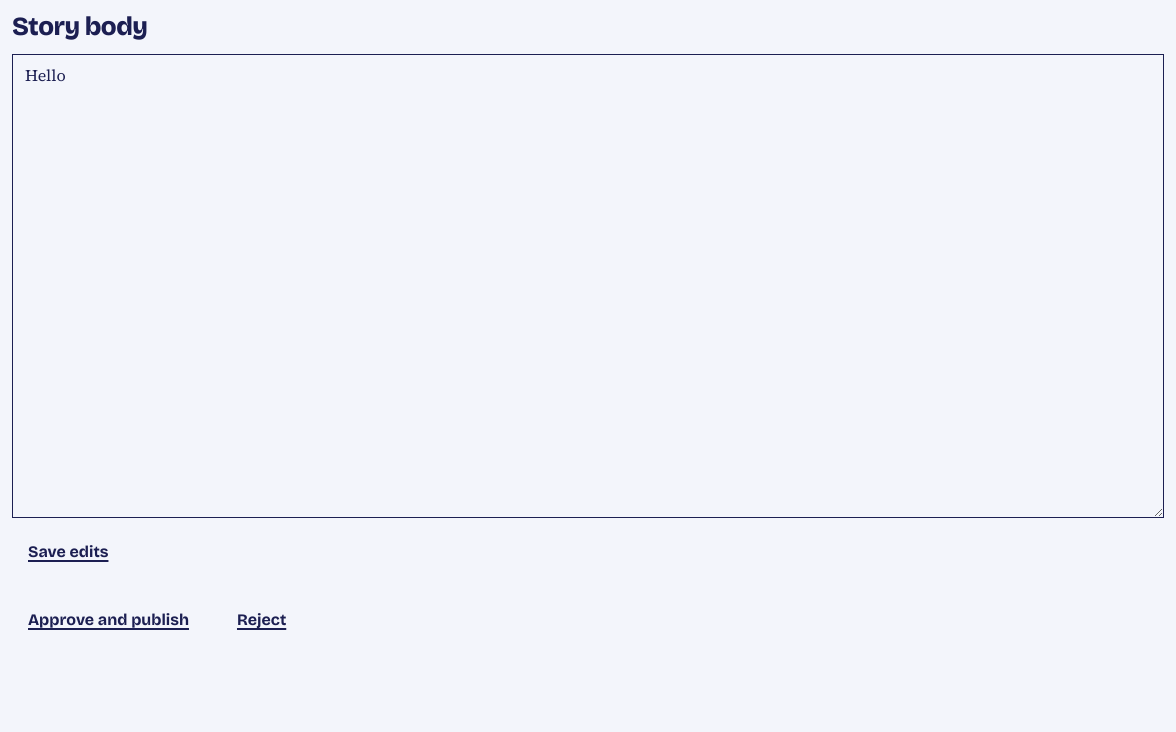
Test: ReviewActions › keeps typed text when a save fails
Replace the text in the text box labelled "Story body" with "Typed edits" at (588, 286), box [12, 54, 1164, 518]
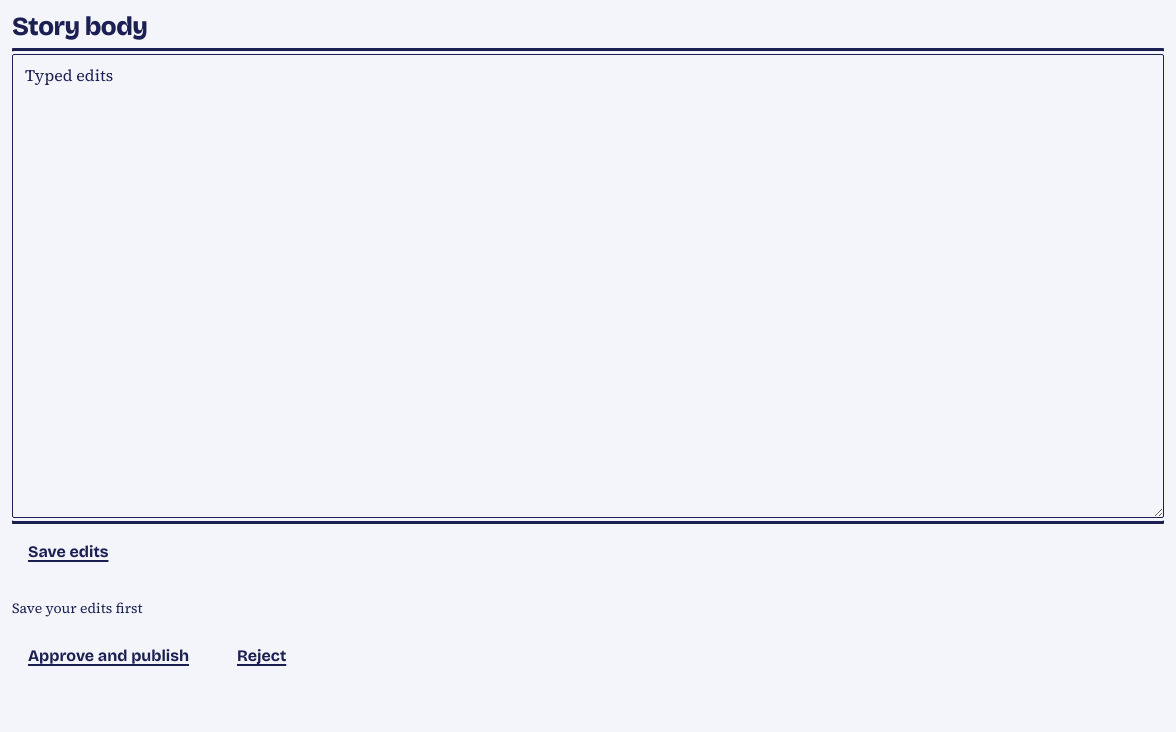
Click the button "Save edits" at (68, 552), box [12, 530, 124, 574]
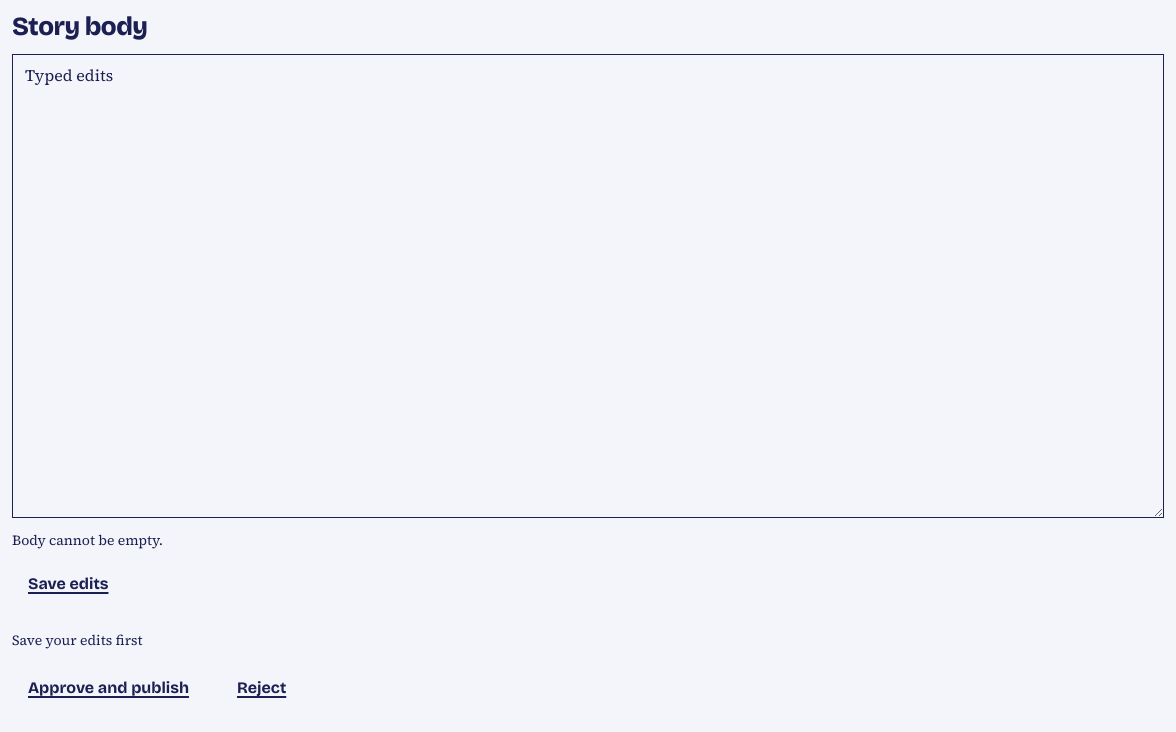
Check: the message reads "Body cannot be empty.", box [12, 530, 163, 550]
